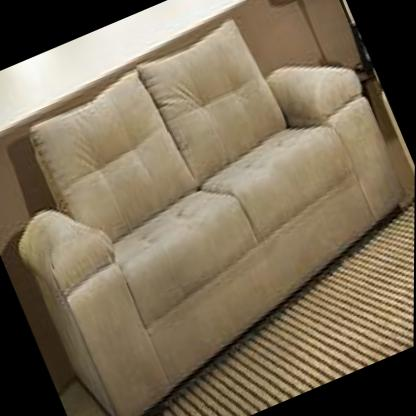Carpet: (148, 206, 415, 416)
Sofa: (0, 0, 416, 416)
